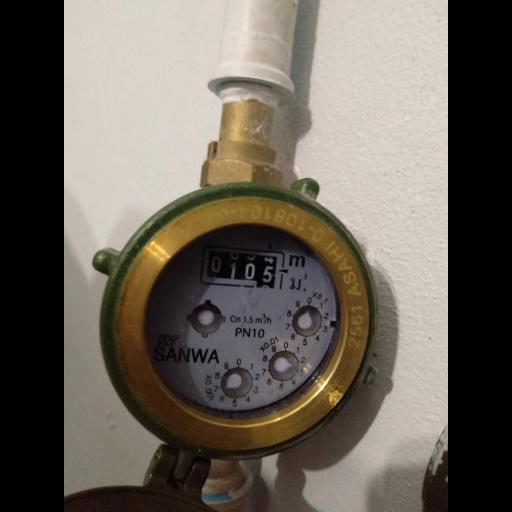0: (239, 254, 259, 283), (207, 250, 225, 278)
1: (222, 251, 242, 281)
5: (257, 254, 278, 290)
border_water_meter_number: (199, 246, 285, 290)
